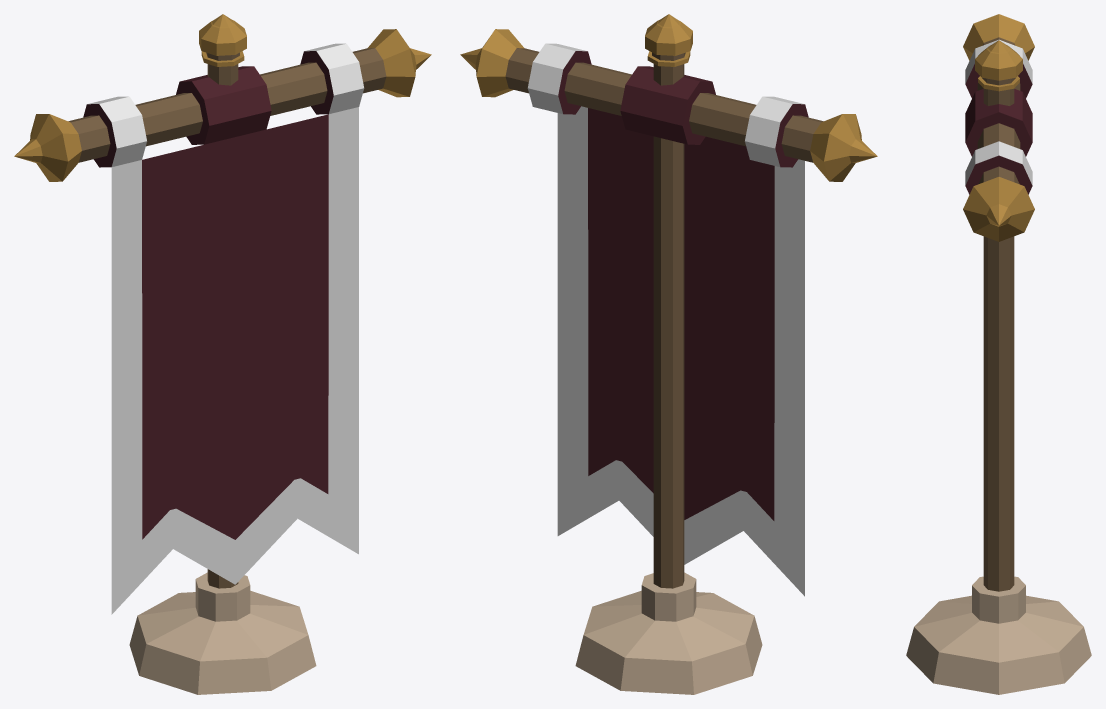
Rendered from BanderaStand.fbx.
3 renders of one model, left to right at view 1: azimuth 30°, elevation 25°; view 2: azimuth 150°, elevation 25°; view 3: azimuth 270°, elevation 25°, orthographic. The views are drawn at different scales.
Visible parts, largest first — view 1: Cylinder, Cylinder.001; view 2: Cylinder, Cylinder.001; view 3: Cylinder.001, Cylinder.
Boxes of the visible parts, x1,y1,x2,y2 form: Cylinder: [14, 29, 431, 614]; Cylinder.001: [129, 14, 316, 694]; Cylinder: [460, 29, 877, 596]; Cylinder.001: [575, 14, 762, 694]; Cylinder.001: [906, 40, 1091, 694]; Cylinder: [963, 14, 1034, 241].
Bounding box in the file's own units: 1.35 × 1.98 × 0.5409.
